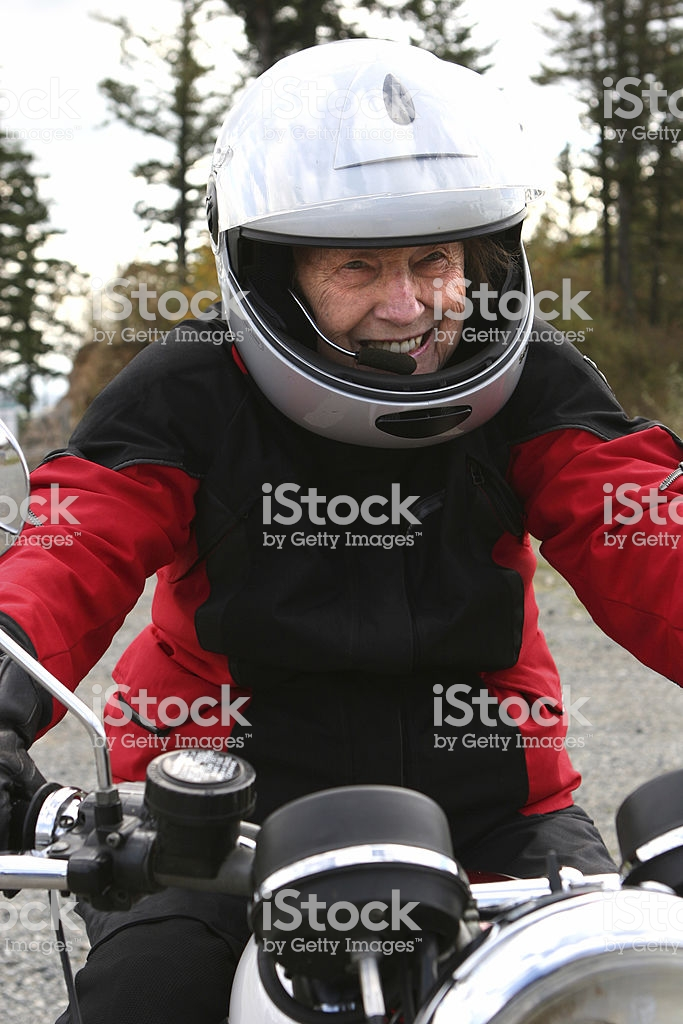helmet: (231, 44, 555, 454)
